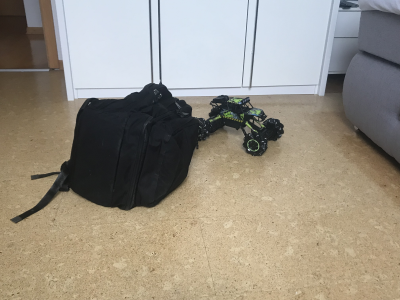remote control car: (191, 90, 288, 159)
